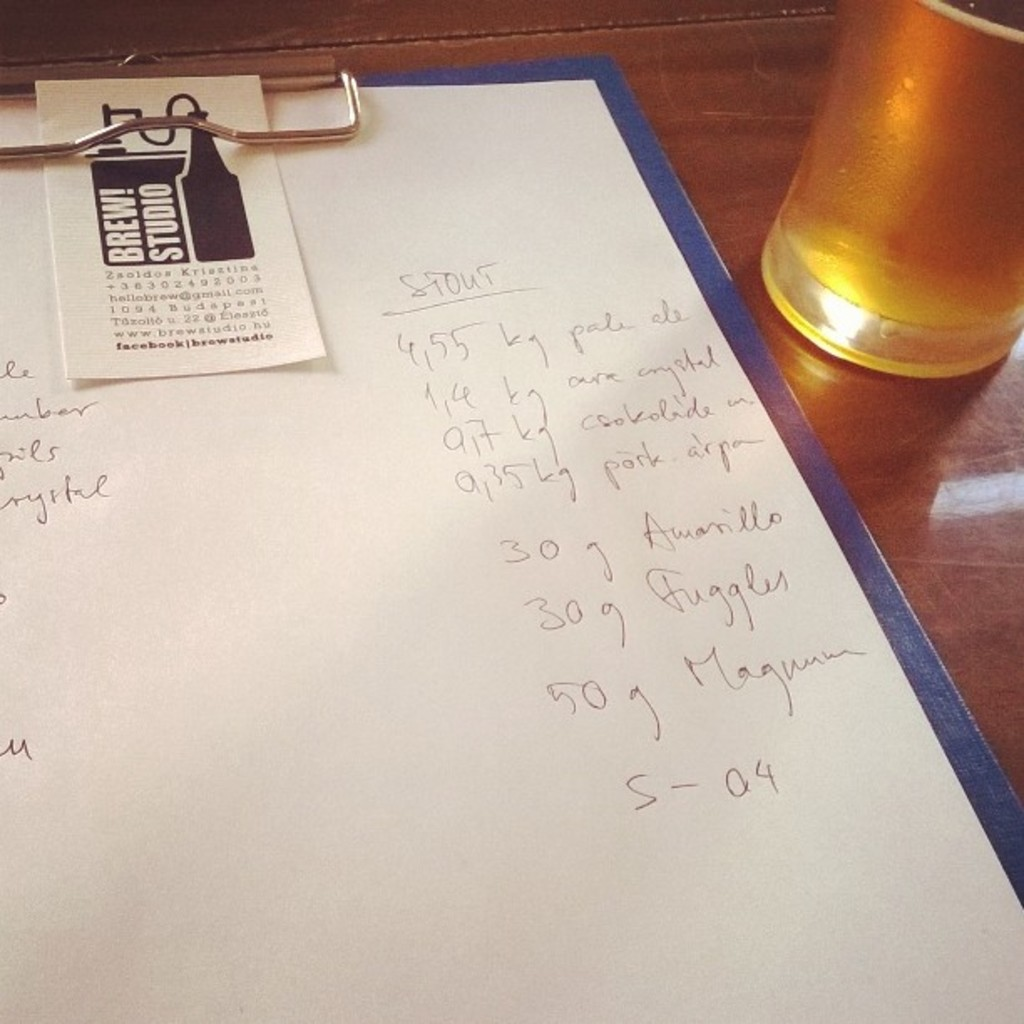Beer: (756, 0, 1022, 381)
